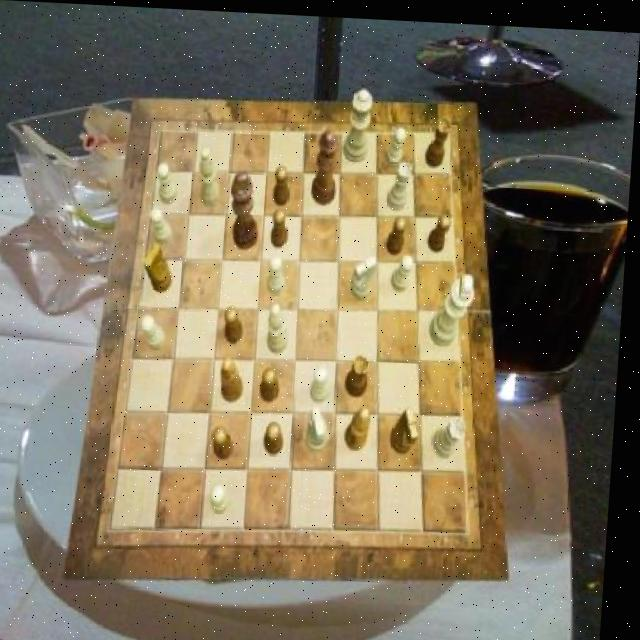bishop: (350, 403, 376, 448), (224, 354, 249, 399)
black-bishop: (230, 167, 264, 246)
black-king: (145, 241, 177, 291), (396, 403, 426, 450)
black-knight: (430, 209, 455, 248), (216, 424, 240, 459), (389, 212, 410, 251), (274, 163, 294, 203), (227, 302, 248, 340), (269, 418, 291, 453), (263, 364, 285, 399), (272, 205, 291, 245)
black-pawn: (314, 126, 342, 203)
black-queen: (427, 111, 454, 163), (350, 350, 375, 394)
black-rook: (200, 145, 225, 205), (271, 301, 294, 351)
white-bishop: (433, 267, 479, 343)
white-king: (354, 250, 380, 297), (310, 403, 335, 449)
white-knight: (157, 161, 181, 203), (151, 205, 176, 242), (144, 314, 170, 349), (394, 249, 417, 287), (387, 124, 408, 164), (314, 361, 335, 400), (269, 252, 289, 292), (216, 482, 238, 510)
white-pawn: (344, 85, 375, 159)
white-queen: (437, 413, 472, 454), (389, 156, 414, 206)
